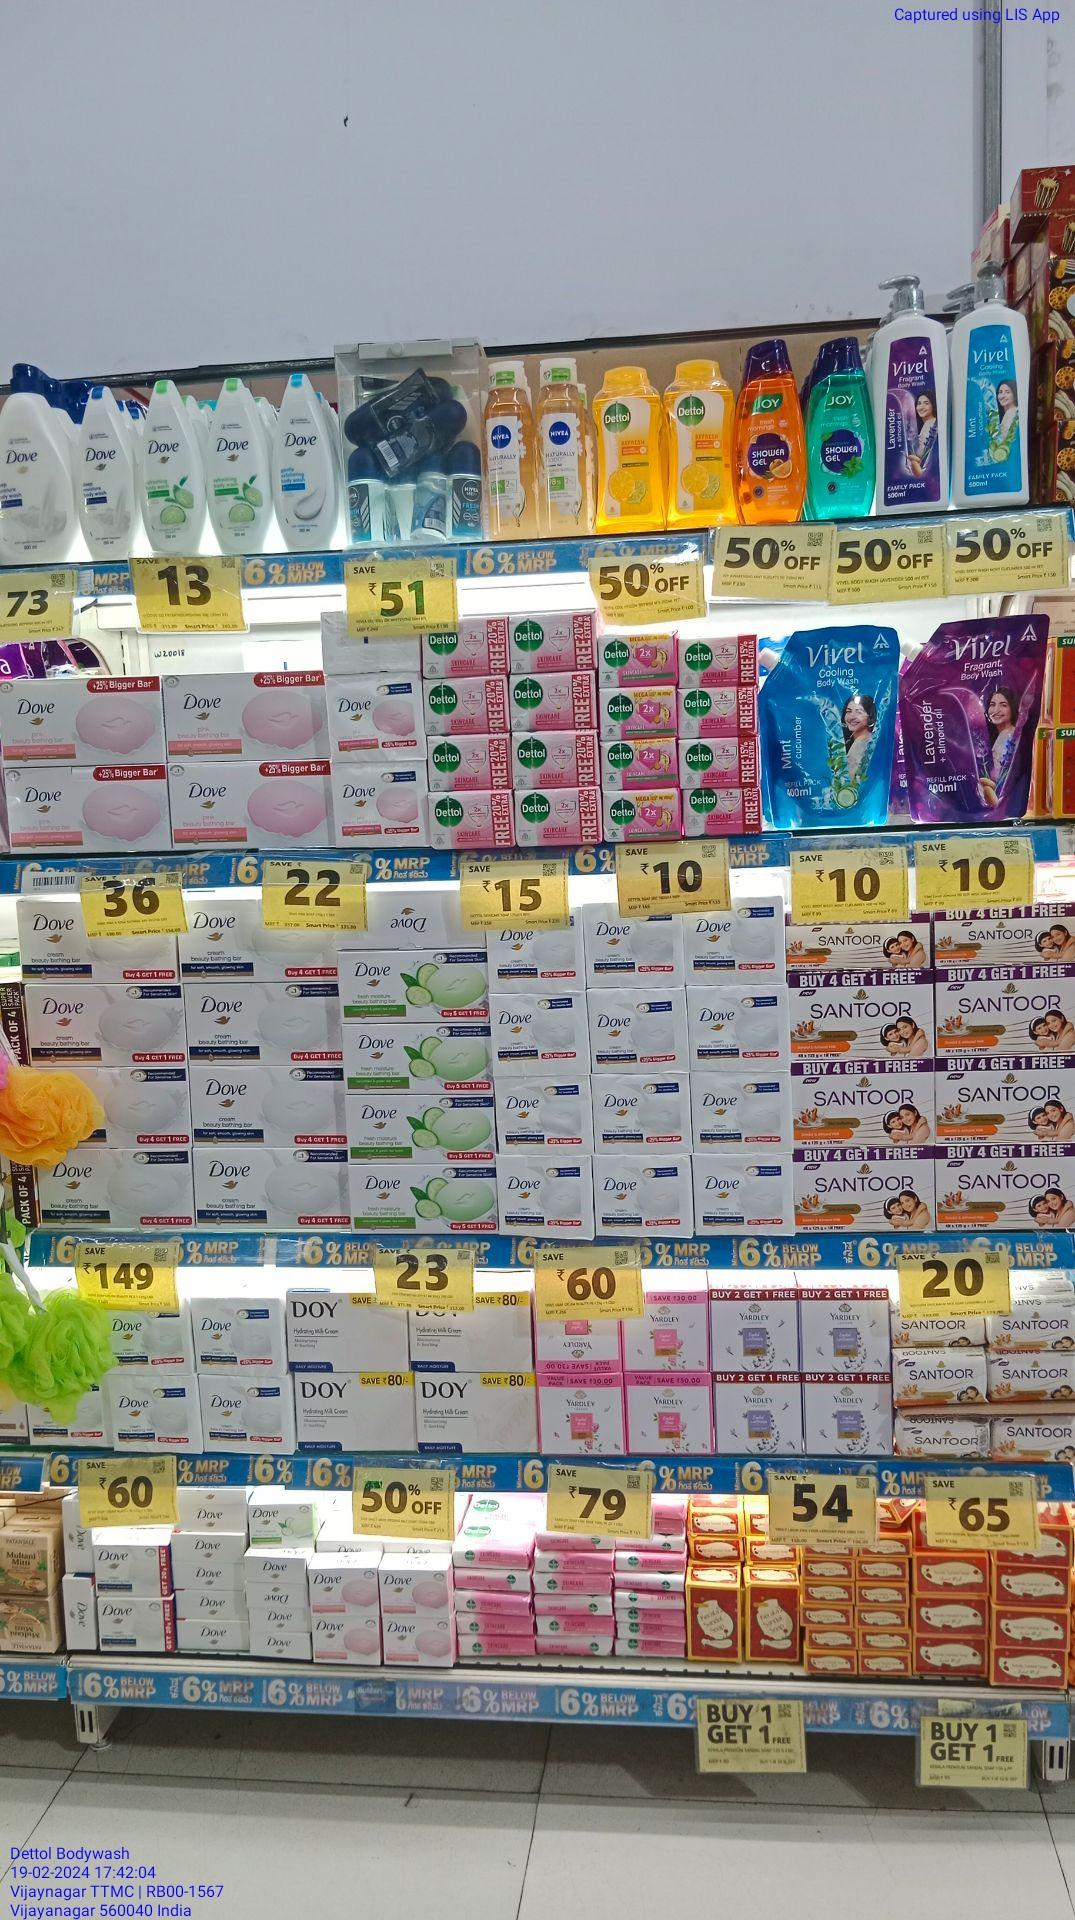Dettol_Bodywash_Refresh: (591, 367, 667, 533), (673, 359, 733, 529)
Dove_Deep_Moisture_Body_Wash_250ML: (73, 385, 133, 560)
Dove_Gentle_Exfoliating_Body_Wash_250ML: (274, 373, 336, 551)
Dove_Refreshing_Body_Wash_250ML: (204, 377, 270, 555), (141, 377, 202, 556)
Joy_Shower_Gel_Mandarin_and_Lemongrass_250ML: (736, 340, 806, 522)
Joy_Shower_Gel_Mint_and_Eucalyptus_250ML: (811, 338, 873, 517)
